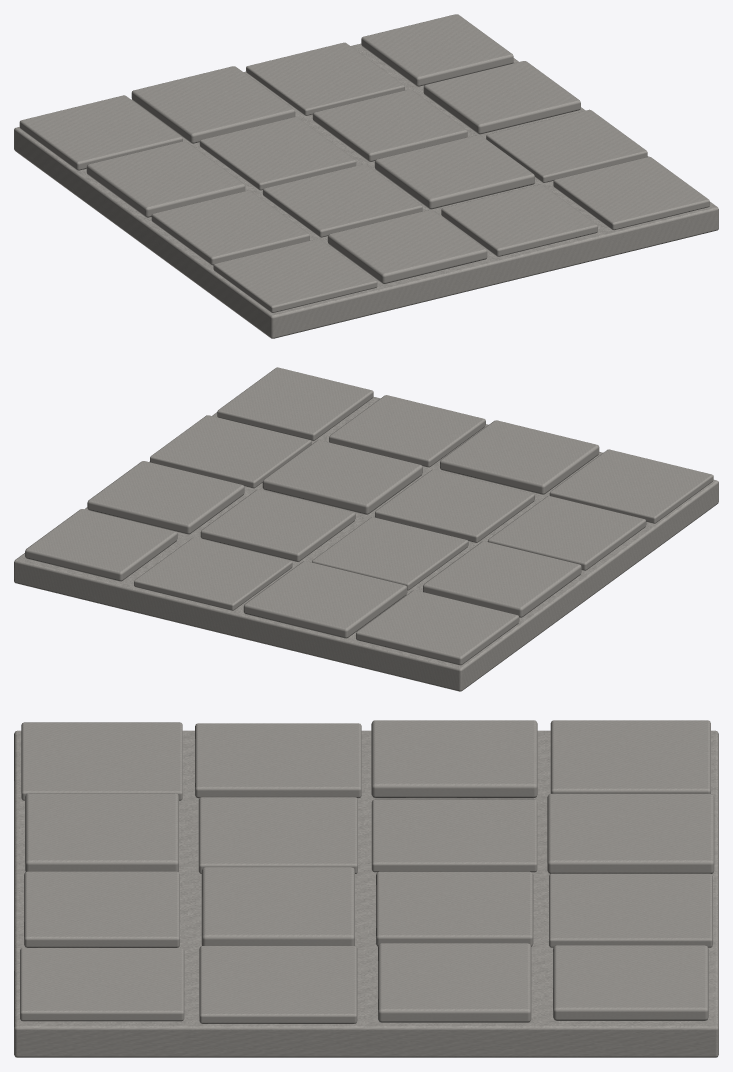
The model's file is witch-cottage-and-apothecary-flagged-floor-slab-f40e2689__32436.glb.
The picture shows the model from 3 angles, top to bottom: view 1: azimuth 30°, elevation 25°; view 2: azimuth 150°, elevation 25°; view 3: azimuth 270°, elevation 25°; orthographic projection. The views are drawn at different scales.
Parts seen in each view (by area): view 1: flagged-floor-slab; view 2: flagged-floor-slab; view 3: flagged-floor-slab.
Part boxes in pixels (bbox=[...]): flagged-floor-slab: bbox=[14, 14, 718, 338]; flagged-floor-slab: bbox=[14, 367, 718, 691]; flagged-floor-slab: bbox=[14, 720, 718, 1057].
Size of the model in its own units: 2 by 0.146 by 2.
1 material, 1 textured.
